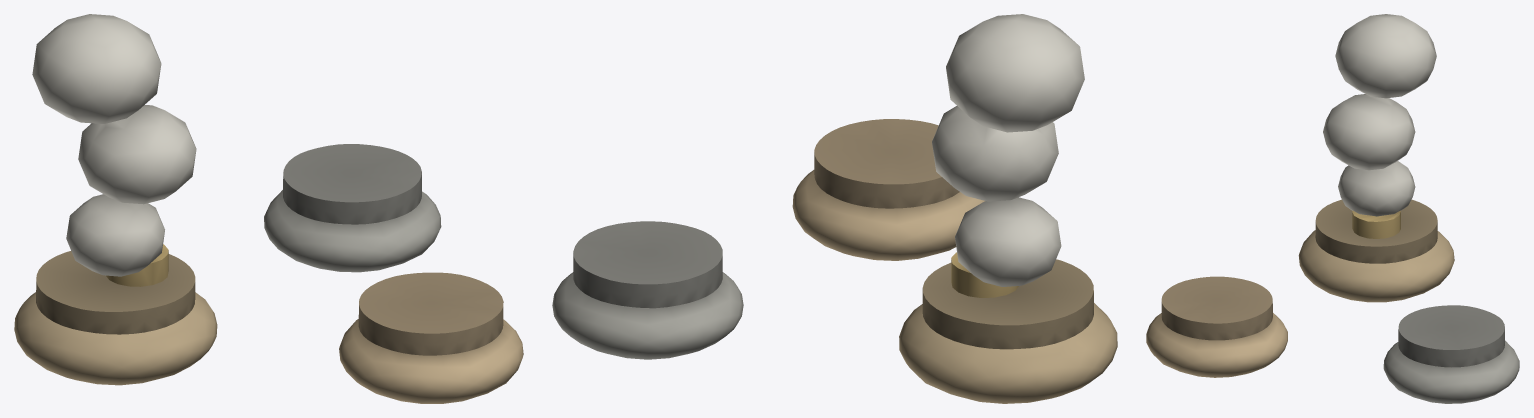
Rendered from dish_stones_a.glb.
3 views of the same model, side by side, from view 1: azimuth 30°, elevation 25°; view 2: azimuth 150°, elevation 25°; view 3: azimuth 270°, elevation 25° (orthographic). The views are drawn at different scales.
Parts seen in each view (by area): view 1: Surface; view 2: Surface; view 3: Surface.
Part boxes in pixels (x1,y1,x2,y2): Surface: [14, 14, 523, 403]; Surface: [552, 14, 1117, 403]; Surface: [1146, 14, 1519, 403].
Size of the model in its own units: 2.13 by 1.56 by 1.99.
